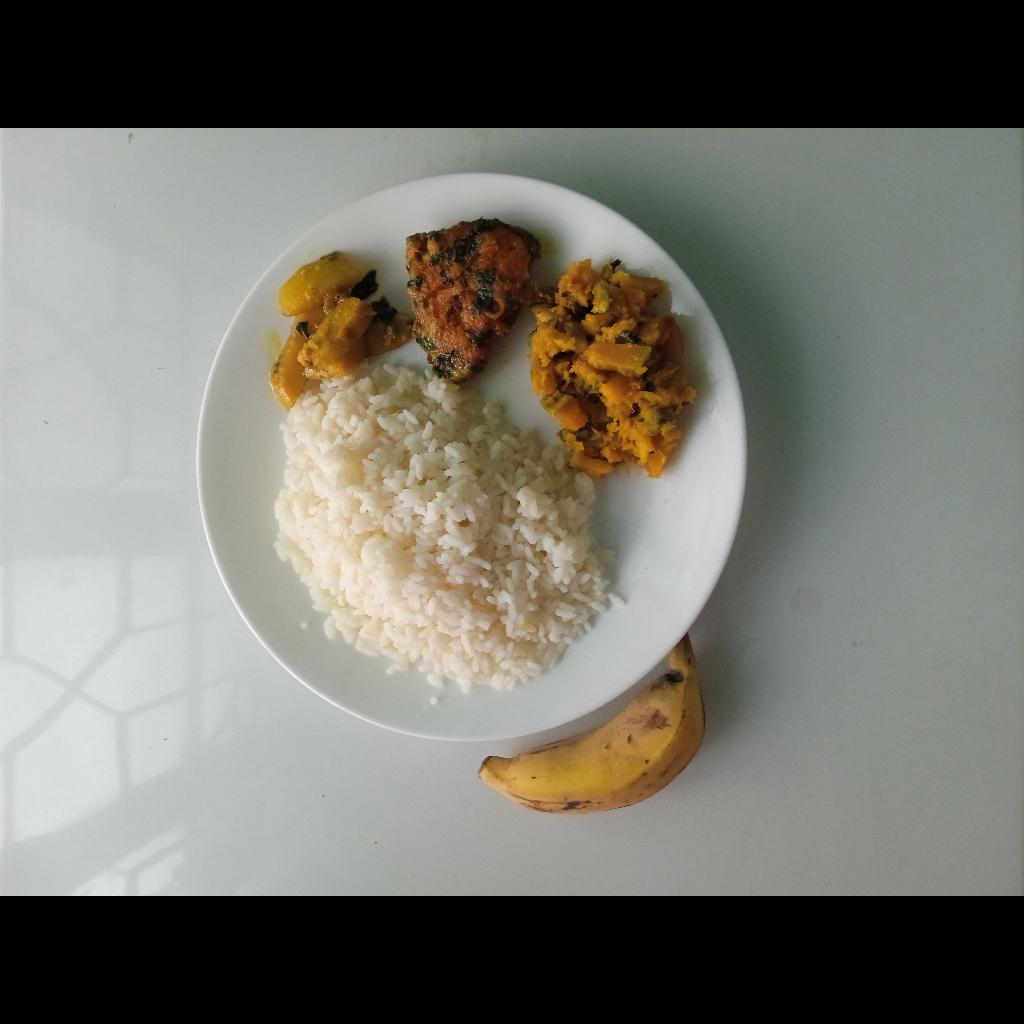banana: (478, 651, 706, 817)
fish: (404, 216, 540, 383)
kumra-vaji: (531, 263, 695, 480)
potato: (271, 252, 413, 410)
rice: (279, 368, 614, 687)
